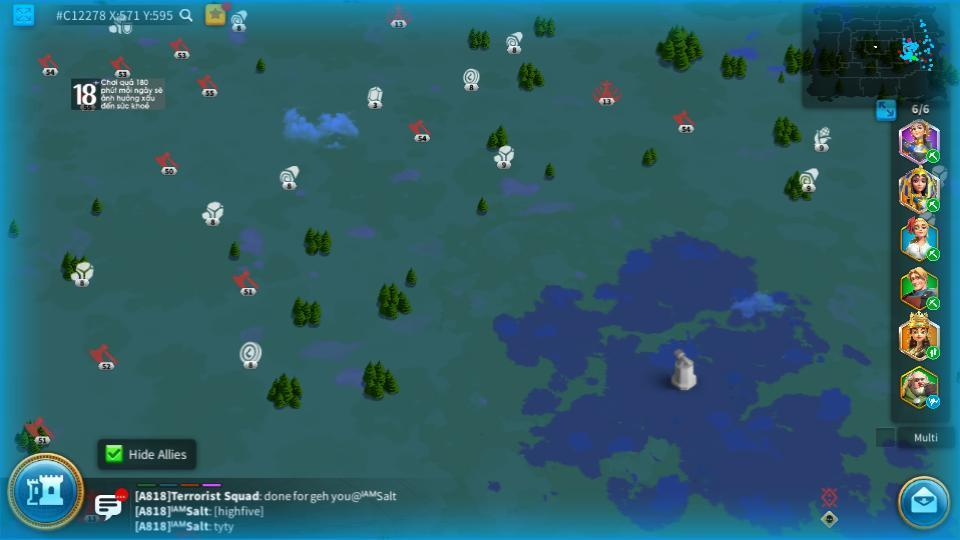gem-z-out: (364, 86, 383, 108)
march_idle: (925, 396, 942, 408)
march_marching: (925, 345, 941, 359), (925, 297, 941, 310), (924, 149, 939, 162)
